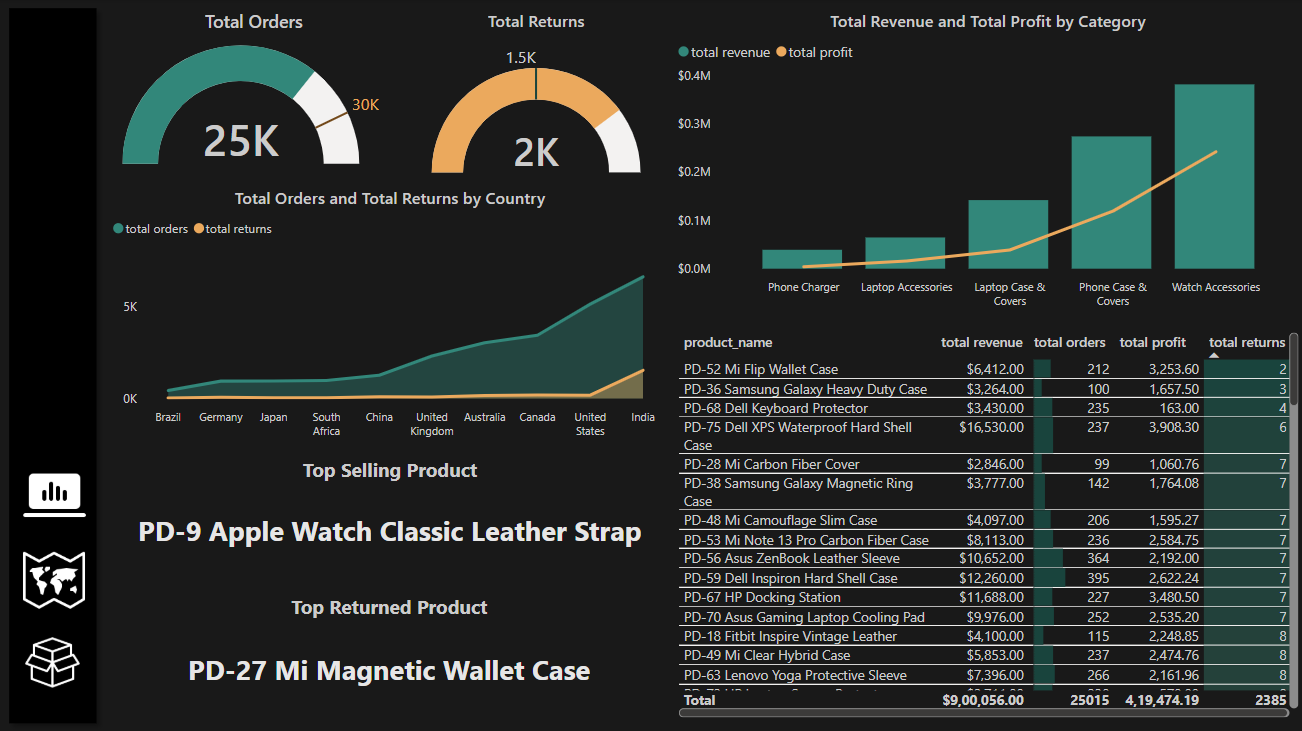

The page's visual inventory and layout, read from the dashboard file:
{"tool":"powerbi","page":{"name":"Product Charts","canvas":[1280,720],"ordinal":2},"visuals":[{"type":"shape","title":"Filter Pane Shape","box":[0,0,66.5,720],"z":0},{"type":"group","id":"g1","title":"Page Nav Icons","box":[0,528.6,67.3,181.1],"z":1000},{"type":"pivotTable","fields":{"Rows":["products.product_name"],"Values":["measures table.Total Revenue","measures table.total orders","measures table.total profit","measures table.return rate"]},"box":[689.5,341.1,575.5,378.9],"z":2000},{"type":"card","title":"Highest Ordered Product","fields":{"Values":["measures table.topN product"]},"box":[75.3,430.1,598.6,131.8],"z":3000},{"type":"card","title":"Highest Returned Product","fields":{"Values":["measures table.topN returned product"]},"box":[75.3,568.5,598.6,141.2],"z":4000},{"type":"lineClusteredColumnComboChart","title":"Total Revenue vs Total Profit by category","fields":{"Category":["products.category"],"Y":["measures table.Total Revenue"],"Y2":["measures table.total profit"]},"box":[689.9,7.5,575.1,322.8],"z":5000},{"type":"gauge","fields":{"Y":["measures table.total orders"]},"box":[75.3,7.5,291.8,182.6],"z":6000},{"type":"areaChart","title":"Total Orders vs Total Returns by country","fields":{"Category":["country.country"],"Y":["measures table.total orders","measures table.total returns"]},"box":[75.3,194.8,598.6,228.7],"z":7000},{"type":"gauge","fields":{"Y":["measures table.total_returns"]},"box":[374.6,7.5,299.3,182.6],"z":8000},{"type":"image","title":"Map Chart","box":[0,586,63.6,61.2],"z":30000,"group":"g1"},{"type":"image","title":"Product Chart","box":[0,643.6,64.9,66.1],"z":31000,"group":"g1"},{"type":"image","title":"Dashboard ceo","box":[0,528.6,67.3,67.3],"z":32000,"group":"g1"}]}

Visuals, with their boxes in screenshot pixels (x1, y1, x2, y2), scaled from the page's 1280x720 canvas onto the 1302x731 screenshot:
"Filter Pane Shape" shape: 0 0 68 730
"Page Nav Icons" group: 0 537 68 721
pivotTable - products.product_name x measures table.Total Revenue: 701 346 1287 730
"Highest Ordered Product" card: 77 437 685 570
"Highest Returned Product" card: 77 577 685 721
"Total Revenue vs Total Profit by category" lineClusteredColumnComboChart: 702 8 1287 335
gauge - measures table.total orders: 77 8 373 193
"Total Orders vs Total Returns by country" areaChart: 77 198 685 430
gauge - measures table.total_returns: 381 8 685 193
"Map Chart" image: 0 595 65 657
"Product Chart" image: 0 653 66 721
"Dashboard ceo" image: 0 537 68 605
